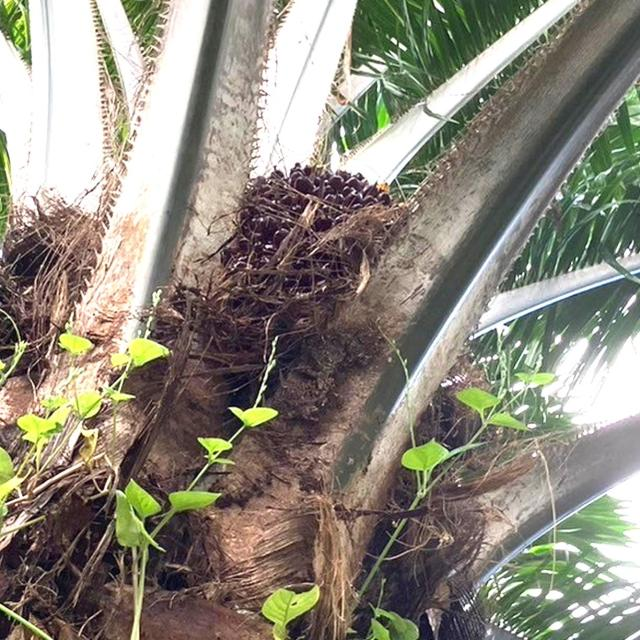ripe: (239, 162, 401, 326)
